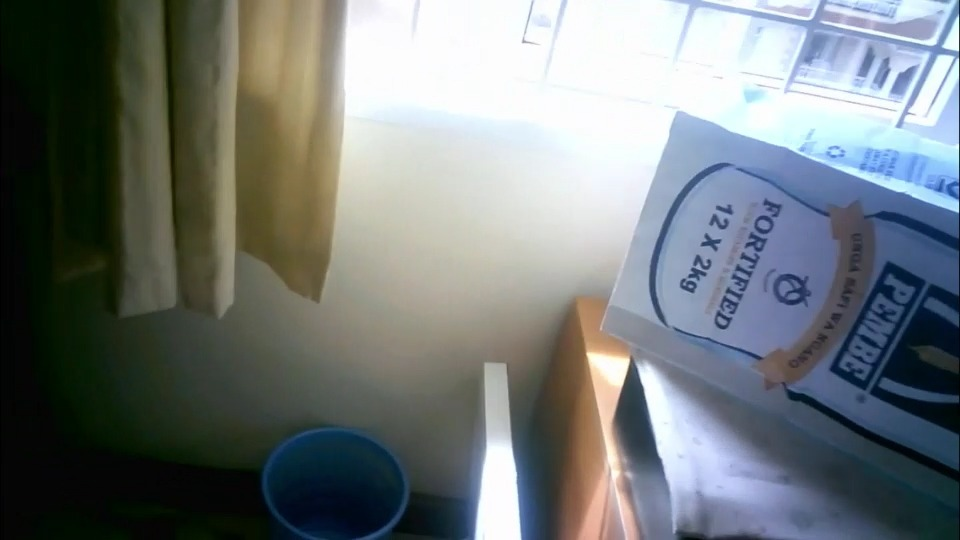wheat_flour_blue_label: (601, 96, 960, 511)
